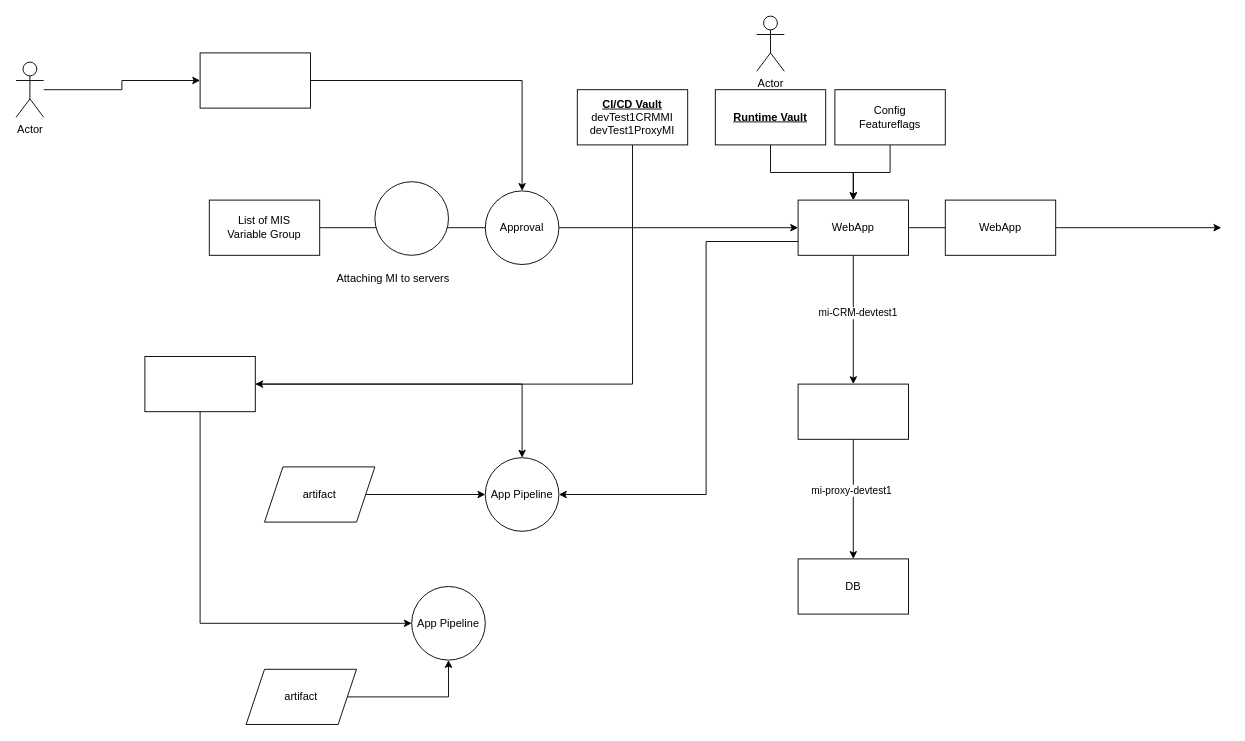
The diagram is 1245 pixels wide and 741 high, and some of its shapes have lost their labels. The box of each missing label's shape, as (x1, y1, x2, y2) in pixels:
ADO Var group Other vars uid/pwd: (144, 356, 255, 412)
Infra Pipeline: (374, 181, 448, 255)
ProxyApp: (797, 383, 908, 439)
Service Desk: (199, 52, 310, 108)
